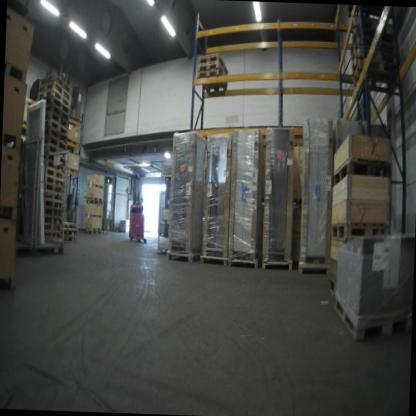pallet: (332, 291, 412, 343), (330, 155, 390, 189), (350, 21, 399, 58), (325, 220, 386, 248), (350, 47, 395, 81), (353, 63, 400, 93), (349, 37, 395, 64), (194, 69, 230, 97), (197, 53, 232, 74), (38, 74, 72, 95), (193, 62, 229, 80), (37, 88, 71, 107), (38, 83, 72, 100), (43, 132, 68, 149), (45, 97, 71, 113), (45, 105, 69, 121), (44, 112, 69, 127), (45, 127, 67, 144), (45, 114, 66, 130), (44, 159, 65, 175), (45, 154, 67, 169), (44, 167, 65, 182), (42, 200, 66, 213), (43, 190, 65, 202), (44, 175, 66, 187), (44, 182, 65, 194), (44, 208, 64, 220), (43, 145, 63, 157), (42, 224, 64, 233), (42, 231, 64, 239), (42, 216, 63, 224), (63, 221, 79, 230), (61, 229, 78, 237), (84, 227, 101, 235), (86, 199, 105, 206), (63, 236, 77, 245)
pallet_truck: (128, 202, 148, 246)
stillage: (156, 207, 171, 256)
